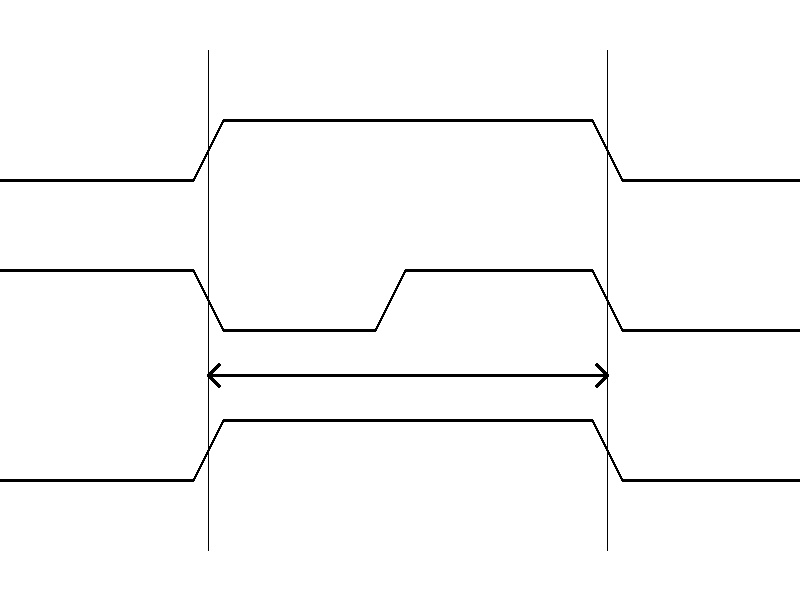double_arrow: (208, 360, 607, 390)
